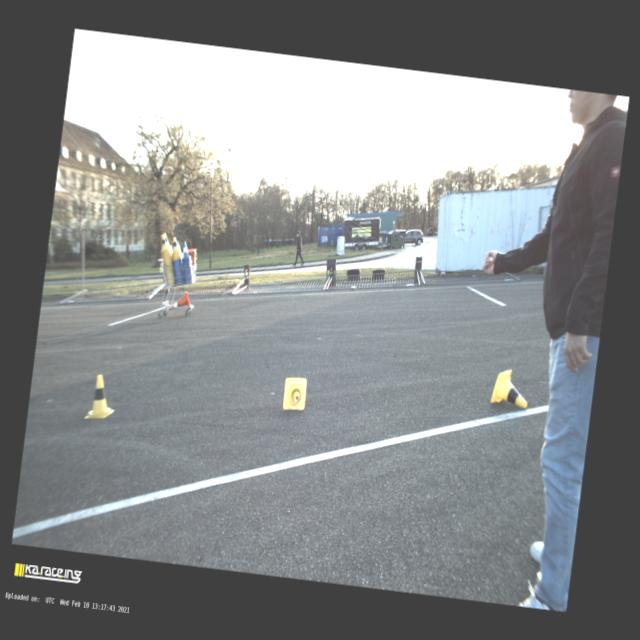blue_cone: (181, 241, 192, 260)
large_orange_cone: (170, 289, 191, 309)
yellow_cone: (490, 366, 530, 409), (84, 372, 118, 422), (282, 376, 308, 412), (158, 234, 170, 252), (170, 237, 180, 254), (162, 232, 172, 247)
